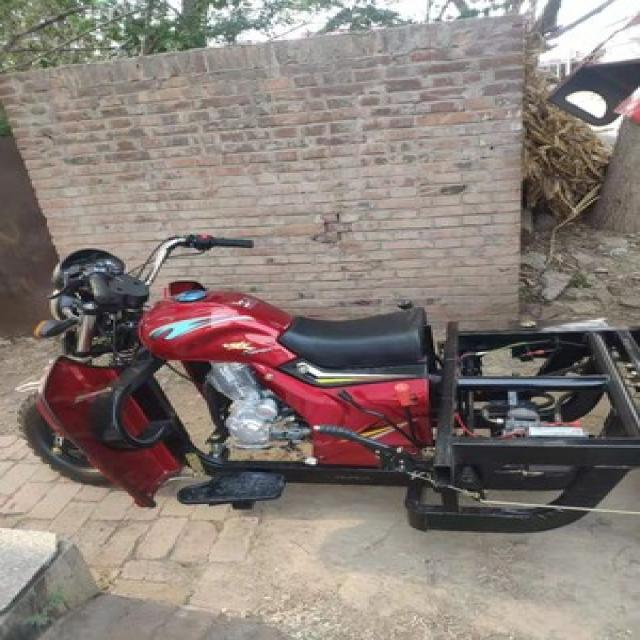tricycle: (8, 228, 638, 534)
